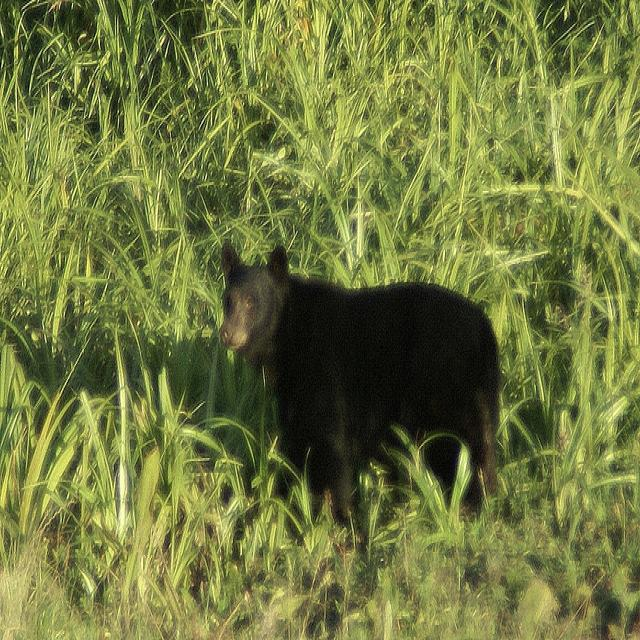Bear: (218, 231, 505, 495)
